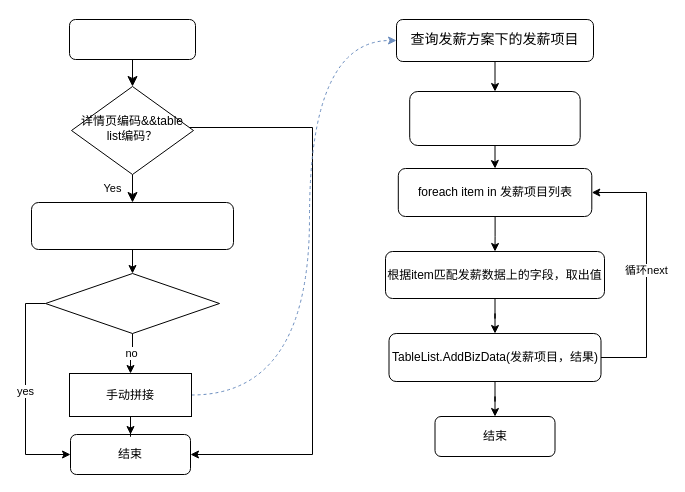
The diagram is 685 pixels wide and 492 high, and some of its shapes have lost their labels. Here are the shapes that lost their labels. From the top down, the centre of each, then its label:
the point at 132,39: tablelist after
the point at 494,118: 查询发薪数据，限定列为上一步骤查询到的发薪项目
the point at 132,226: 查询数据 条件：发薪数据ID，是否删除=false
the point at 132,303: 是否存在数据
